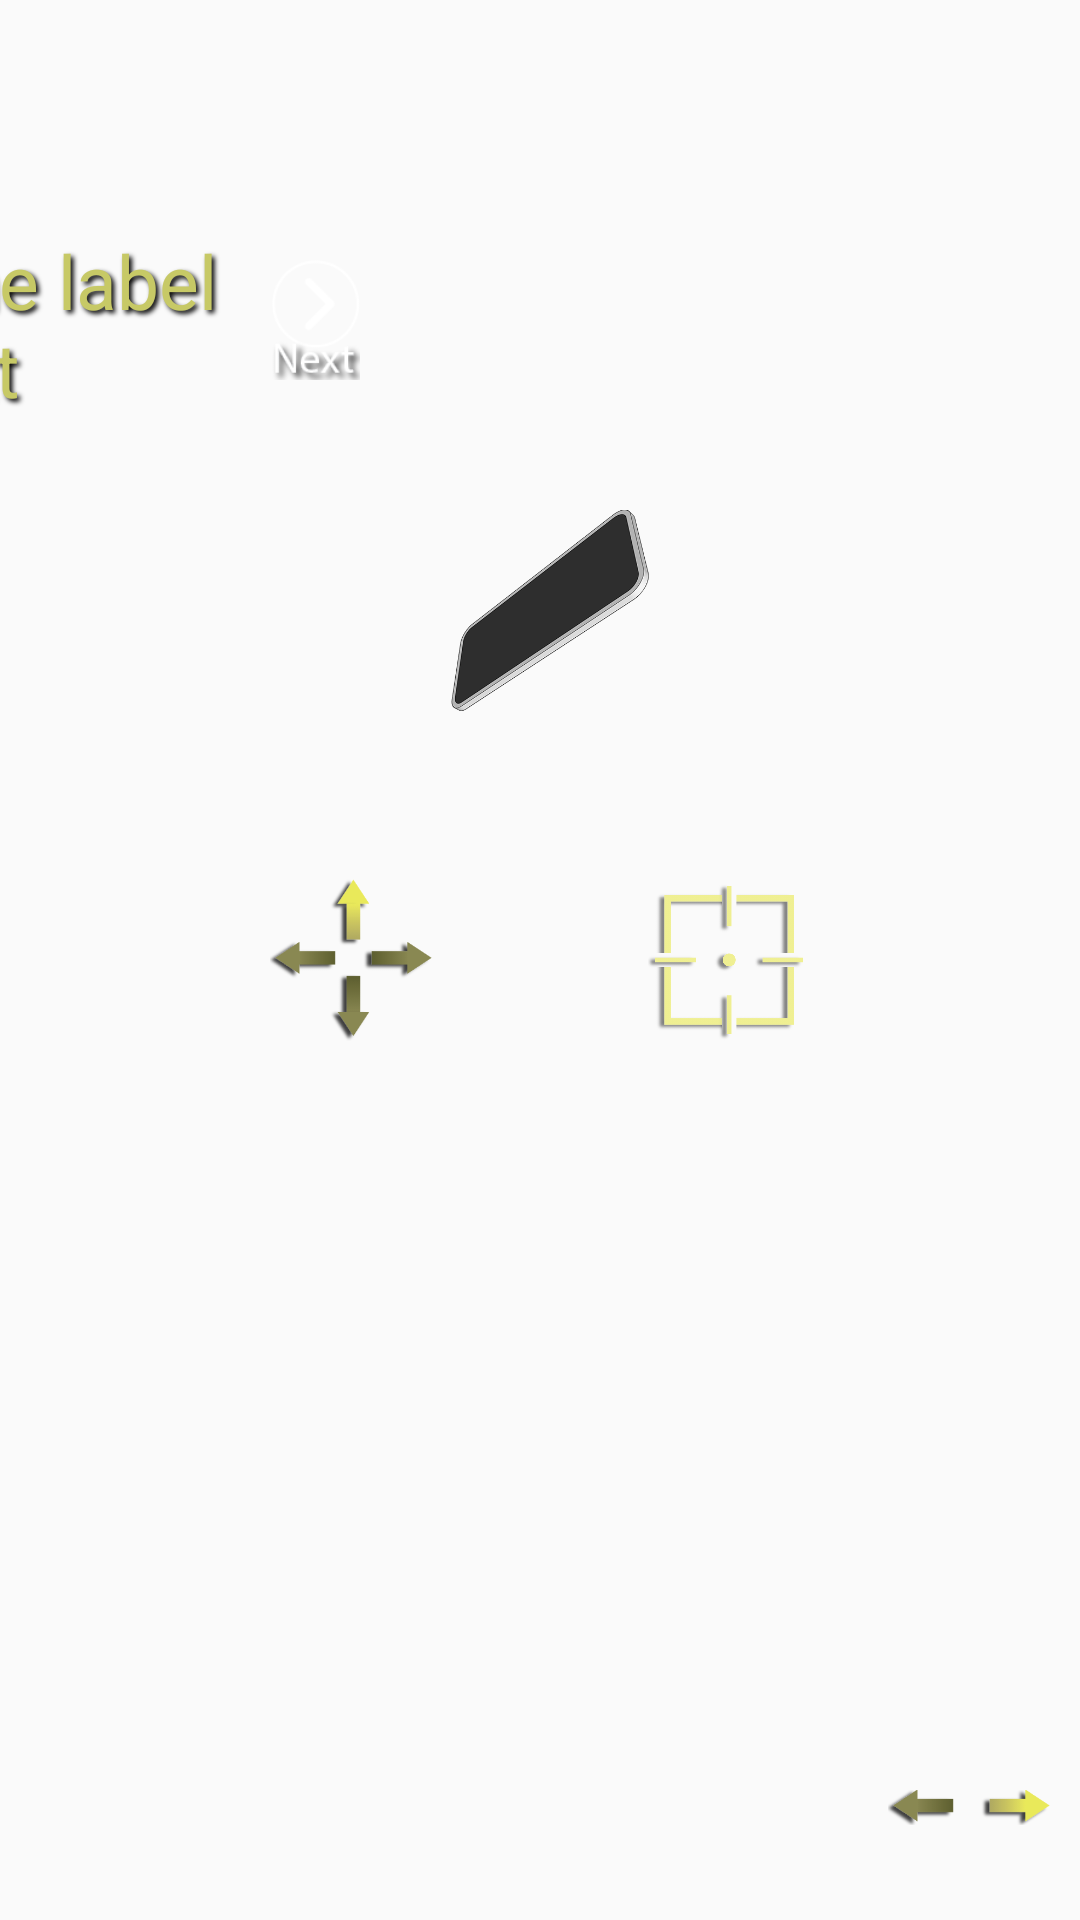

Icon bounding boxes for this 1080*1920 phone screenshot, format (x1,y1,x2,y2):
tut fire: (649,886,803,1038)
tut tilt roll: (451,510,649,711)
